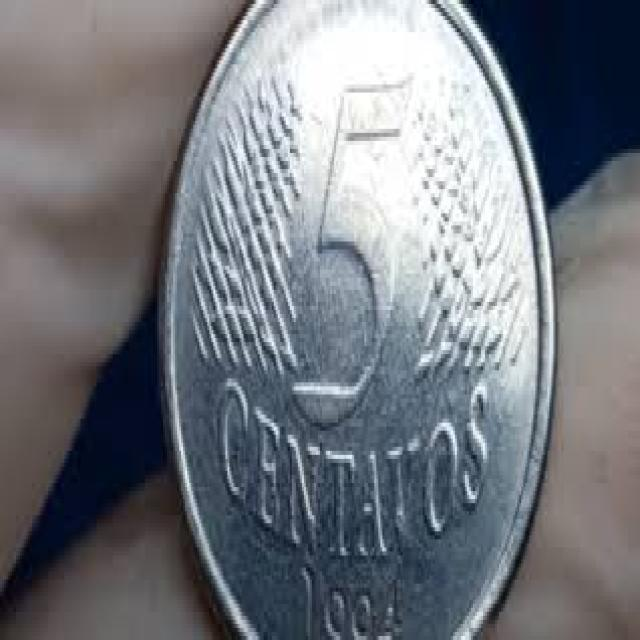5 cent: (160, 0, 554, 640)
